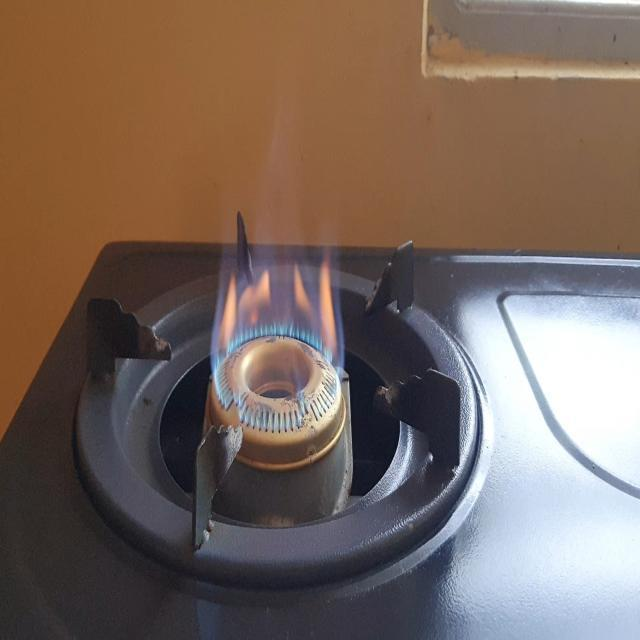Flame: (171, 223, 366, 472)
